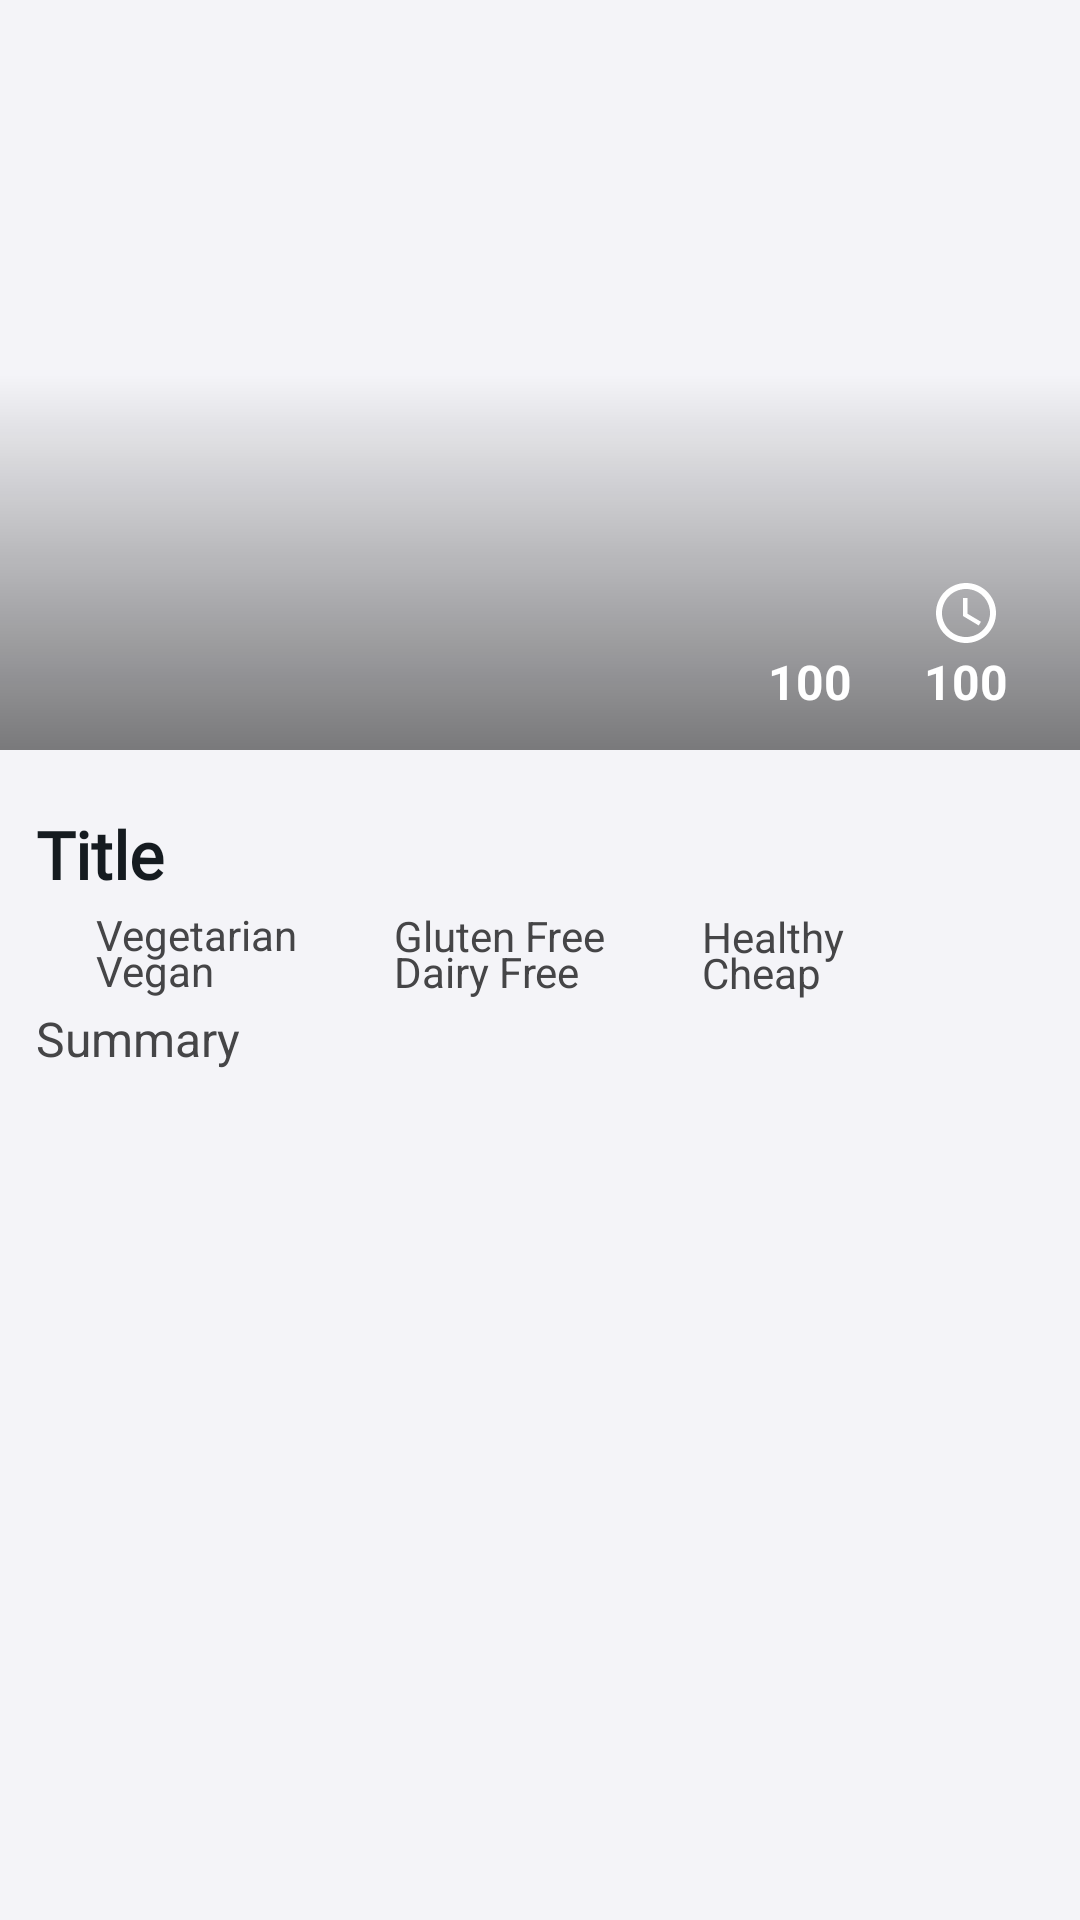

Icon bounding boxes for this 1080 x 1920 phone screenshot, format (x1, y1, x2, y2):
time: (930, 577, 1002, 643)
